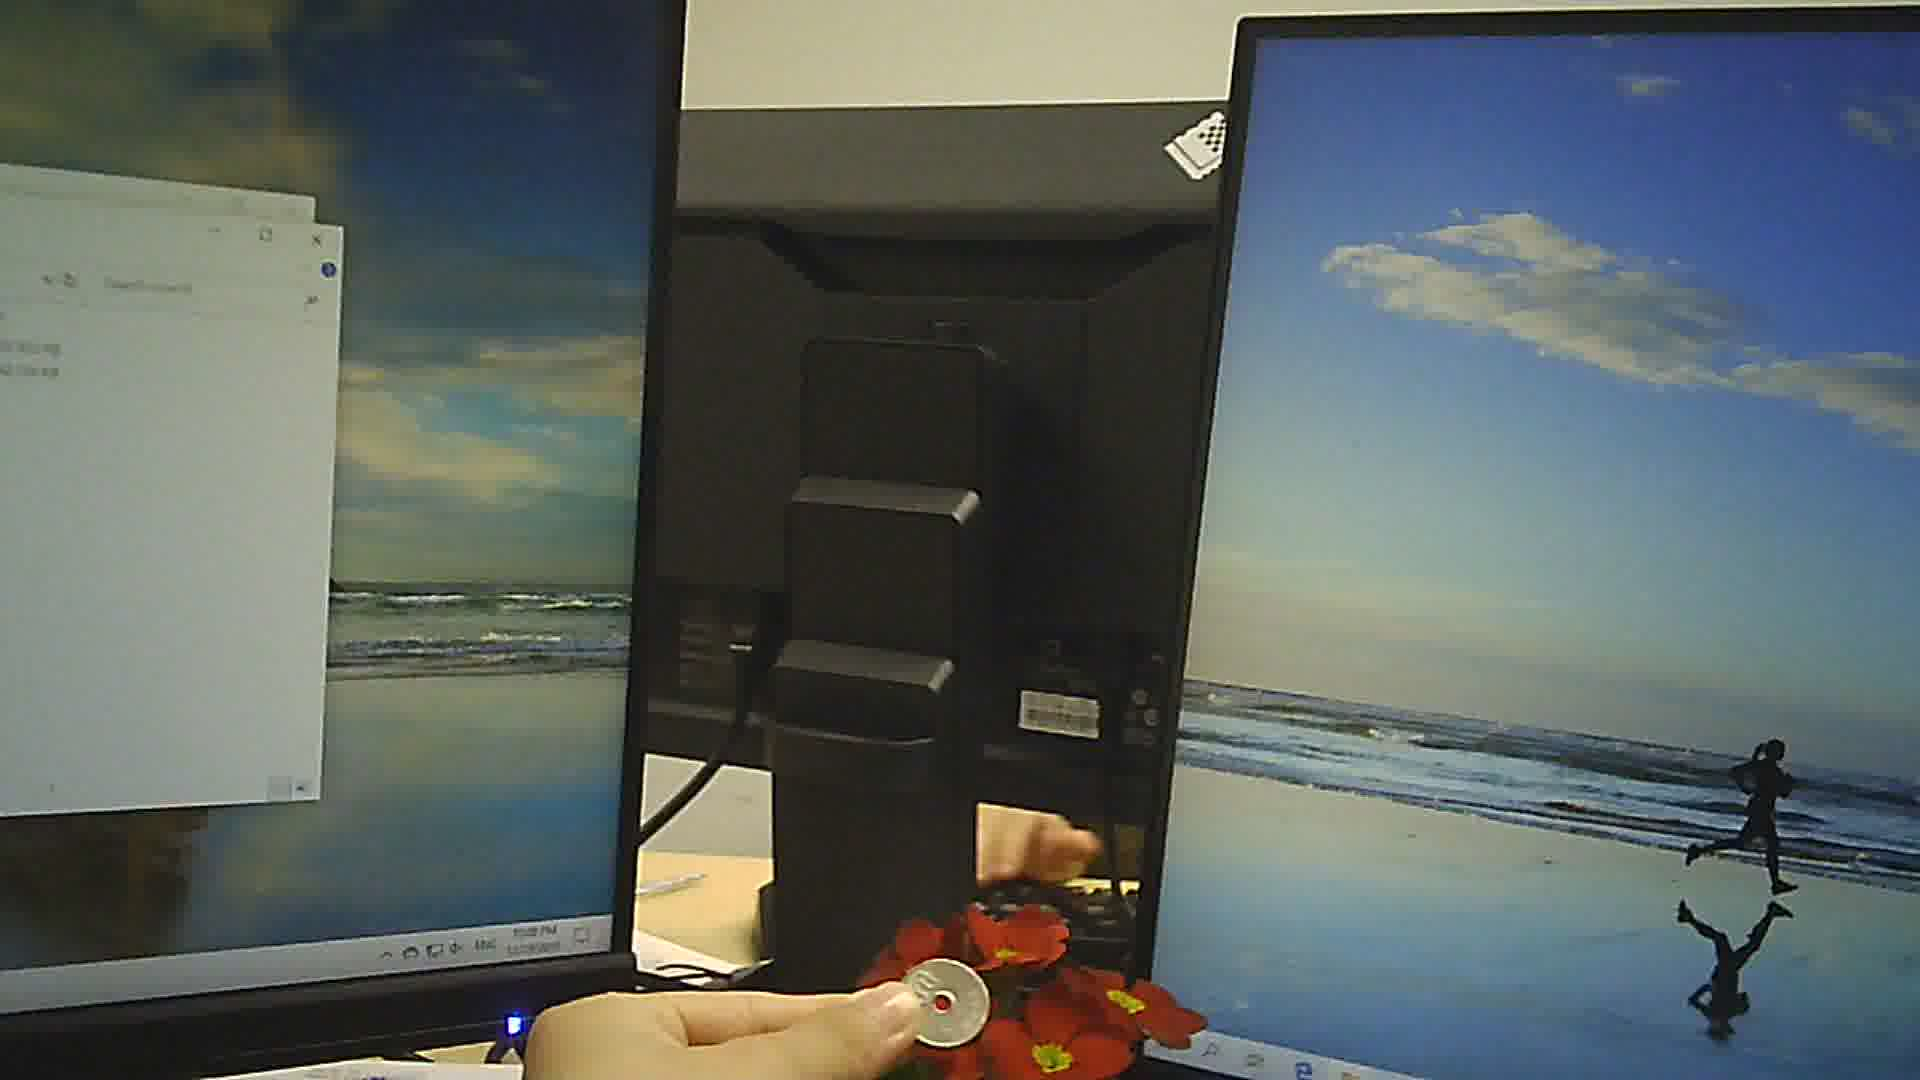50 Yen: (902, 957, 986, 1043)
